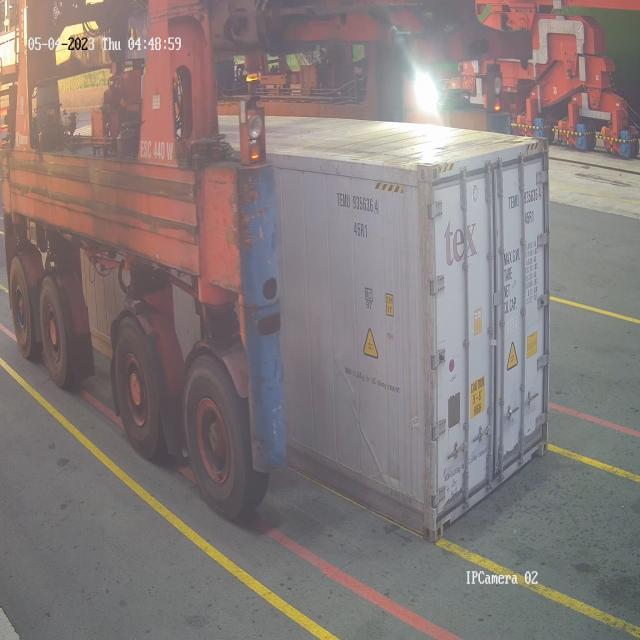dent: (333, 365, 420, 506)
